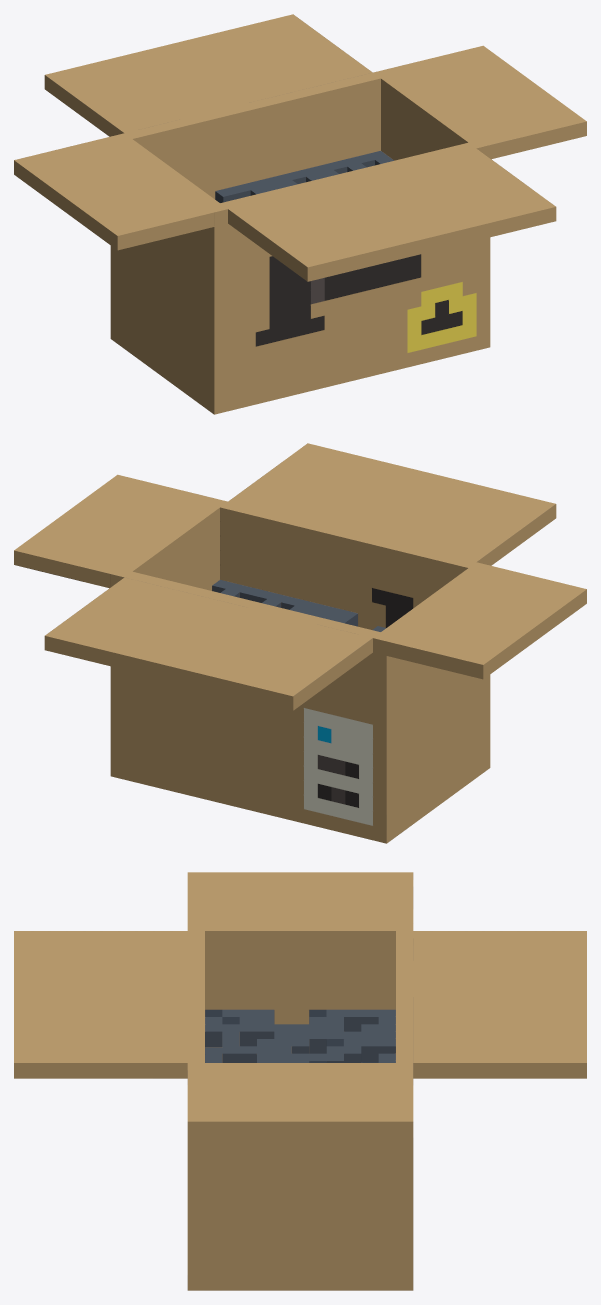
File: IKEA_CajasMartilloFilled.fbx
3 views of the same model, one above another, from view 1: azimuth 30°, elevation 25°; view 2: azimuth 150°, elevation 25°; view 3: azimuth 270°, elevation 25° (orthographic). The views are drawn at different scales.
Parts seen in each view (by area): view 1: IKEA_CajasMartilloFilled; view 2: IKEA_CajasMartilloFilled; view 3: IKEA_CajasMartilloFilled.
Part boxes in pixels (x1,y1,x2,y2): IKEA_CajasMartilloFilled: (14, 14, 586, 414); IKEA_CajasMartilloFilled: (14, 443, 586, 843); IKEA_CajasMartilloFilled: (14, 872, 586, 1290).
Size of the model in its own units: 340 by 330 by 140.
